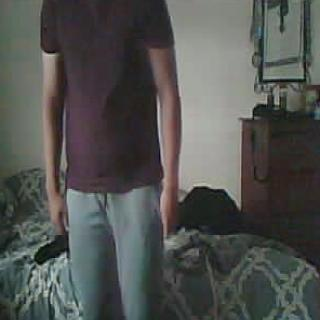Blue Sweatpants: (67, 186, 162, 320)
Maroon T-Shirt: (49, 0, 164, 180)
